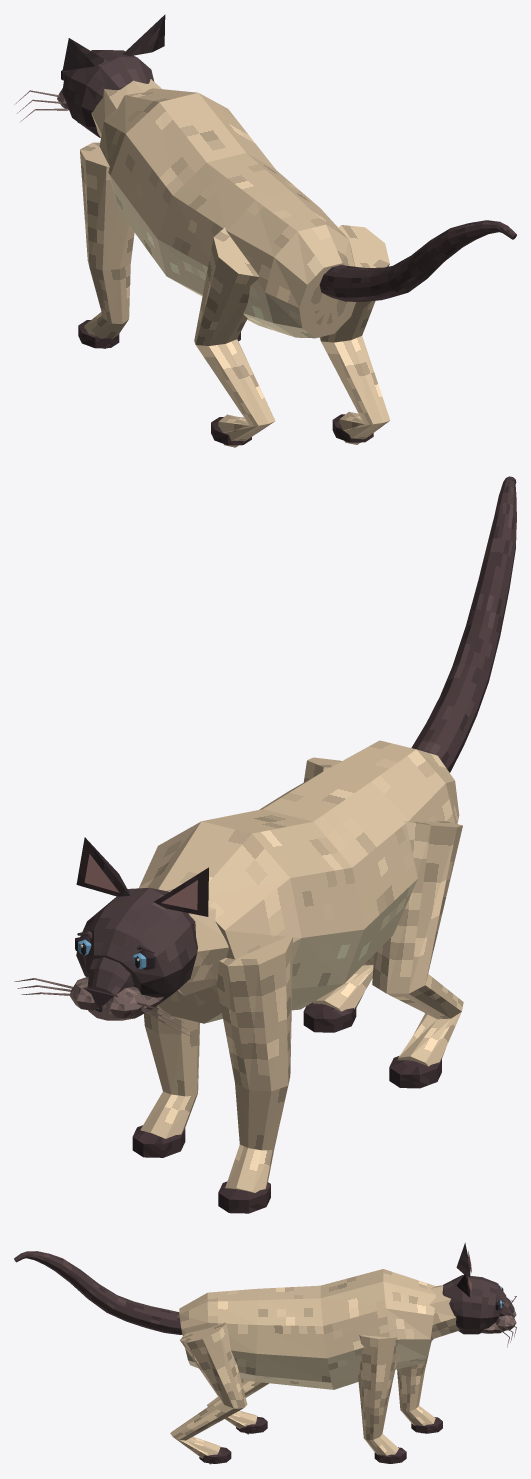
Rendered from mon_cat_siamese.glb.
The picture shows the model from 3 angles, top to bottom: view 1: azimuth 30°, elevation 25°; view 2: azimuth 150°, elevation 25°; view 3: azimuth 270°, elevation 25°; orthographic projection. The views are drawn at different scales.
Parts seen in each view (by area): view 1: closed_body; view 2: closed_body; view 3: closed_body.
Part boxes in pixels (box(x1,y1,x2,y2)): closed_body: box(14, 14, 516, 447); closed_body: box(14, 476, 516, 1213); closed_body: box(14, 1242, 516, 1464).
Bounding box in the file's own units: 0.177 × 0.393 × 0.8387.
Materials: 1 (1 with a texture image).
